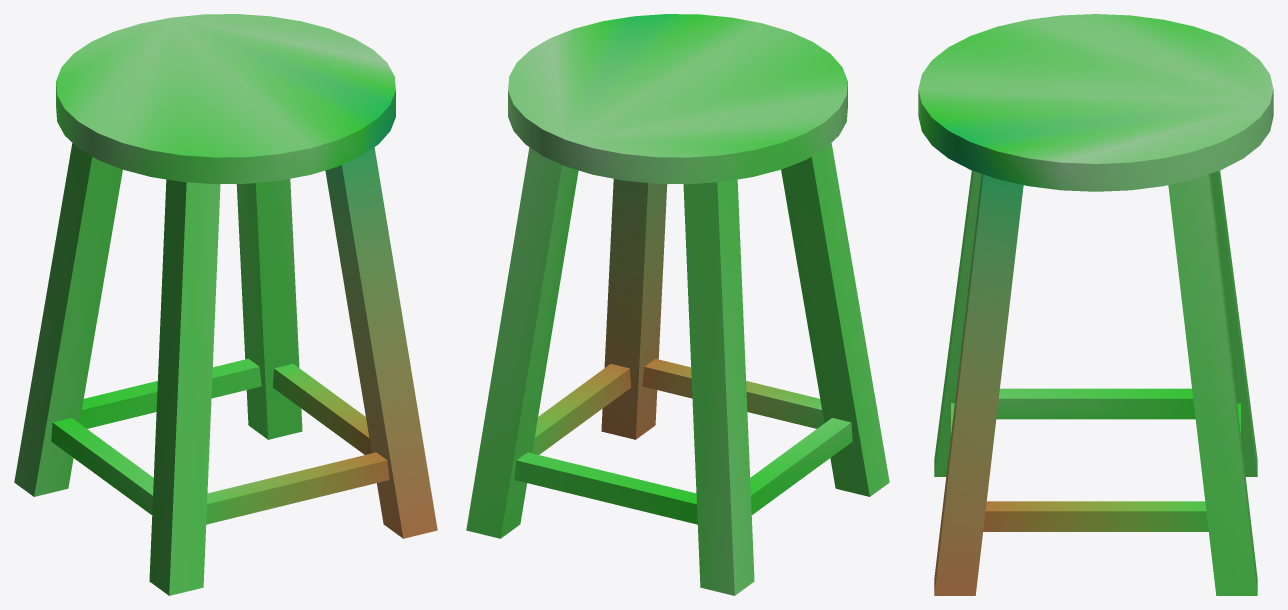
Rendered from Stool_1.fbx.
3 views of the same model, side by side, from view 1: azimuth 30°, elevation 25°; view 2: azimuth 150°, elevation 25°; view 3: azimuth 270°, elevation 25° (orthographic). The views are drawn at different scales.
Visible parts, largest first — view 1: Stool_1; view 2: Stool_1; view 3: Stool_1.
Boxes of the visible parts, x1,y1,x2,y2 form: Stool_1: [14, 14, 437, 595]; Stool_1: [466, 14, 889, 595]; Stool_1: [918, 14, 1273, 595].
Size of the model in its own units: 0.4298 by 0.5859 by 0.4298.
